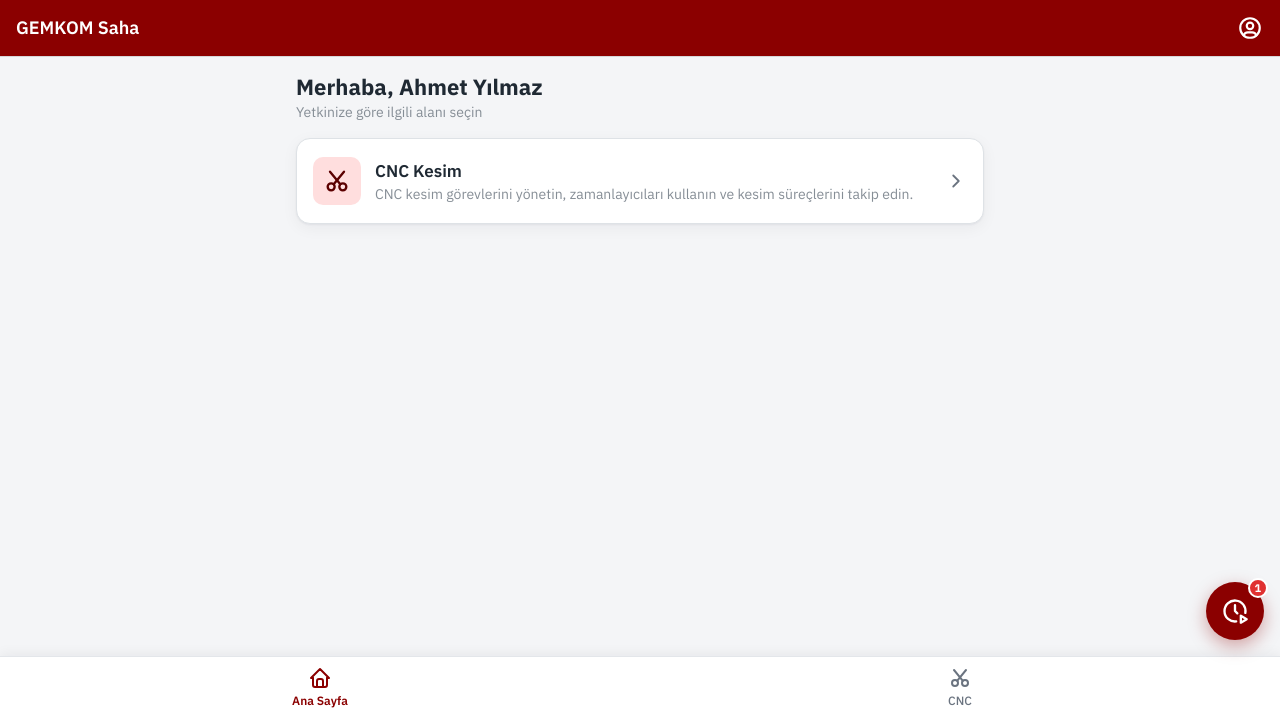
Test: timer bubble › shows the running timers with server-time elapsed and links to their pages
This screenshot has width=1280, height=720.
Press the mouse on the button named "Aktif zamanlayıcılar (1)" at point(1235, 611), box [1206,582,1264,640]
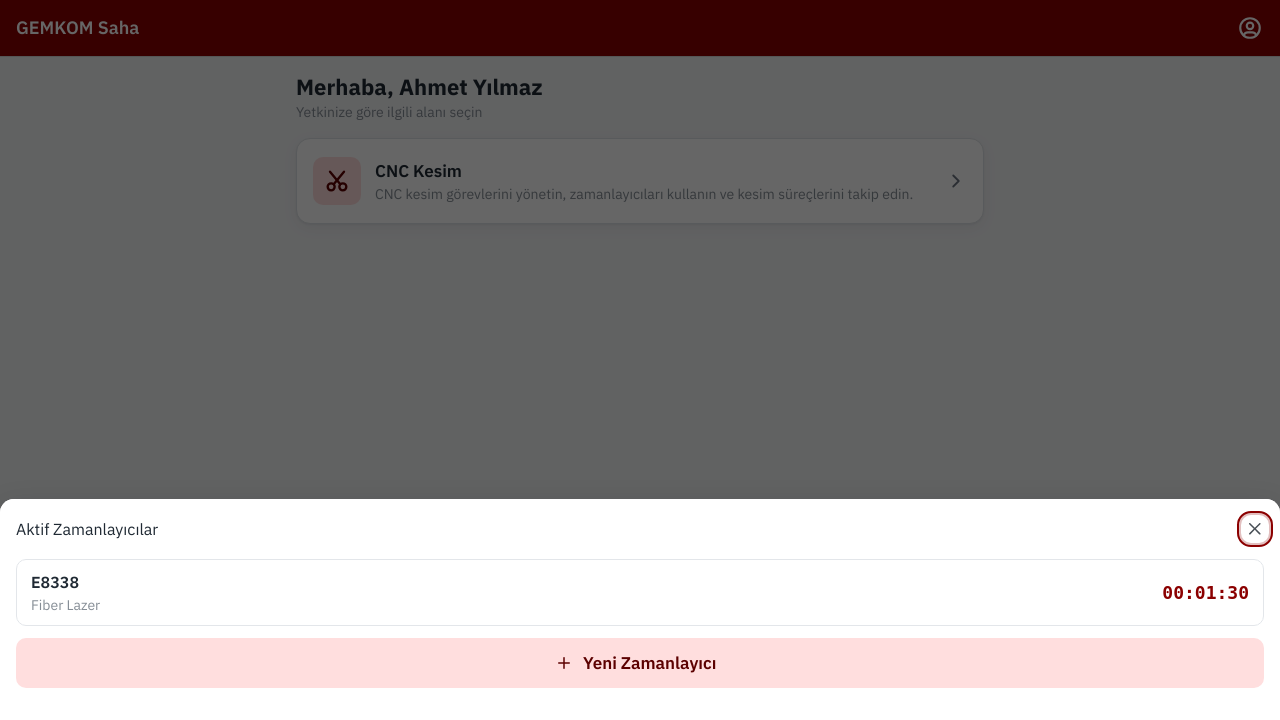
Expected: the link "E8338 Fiber Lazer 00:01:30" is shown, [16,559,1264,626]
